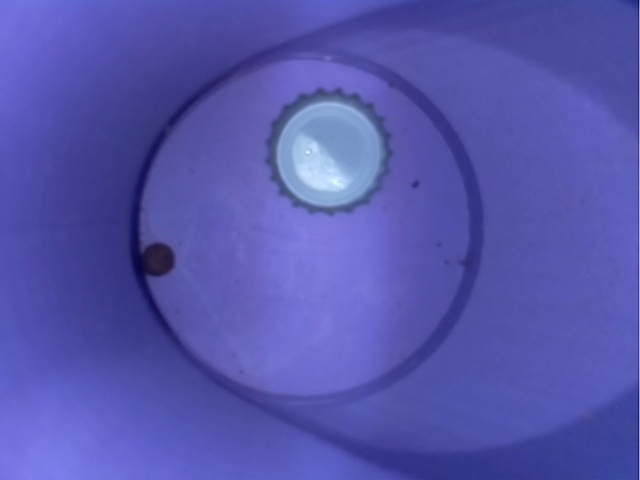capsule: (252, 80, 399, 218)
croquette: (133, 238, 186, 279)
